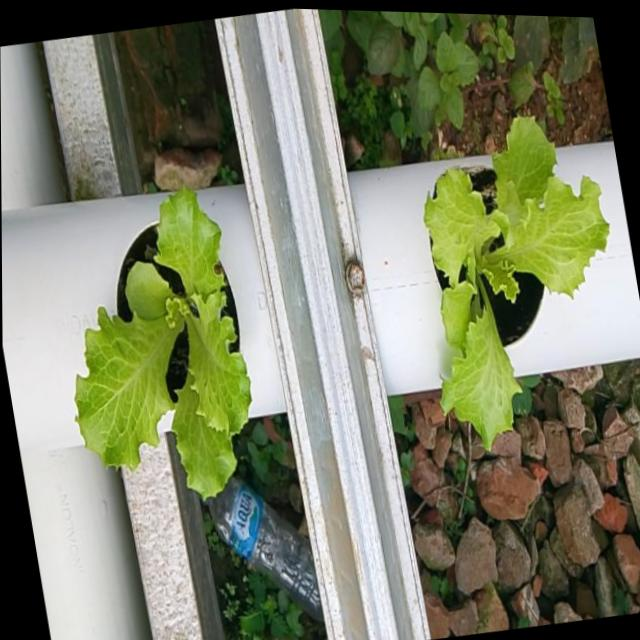Baby: (421, 117, 605, 448), (73, 185, 251, 499)
